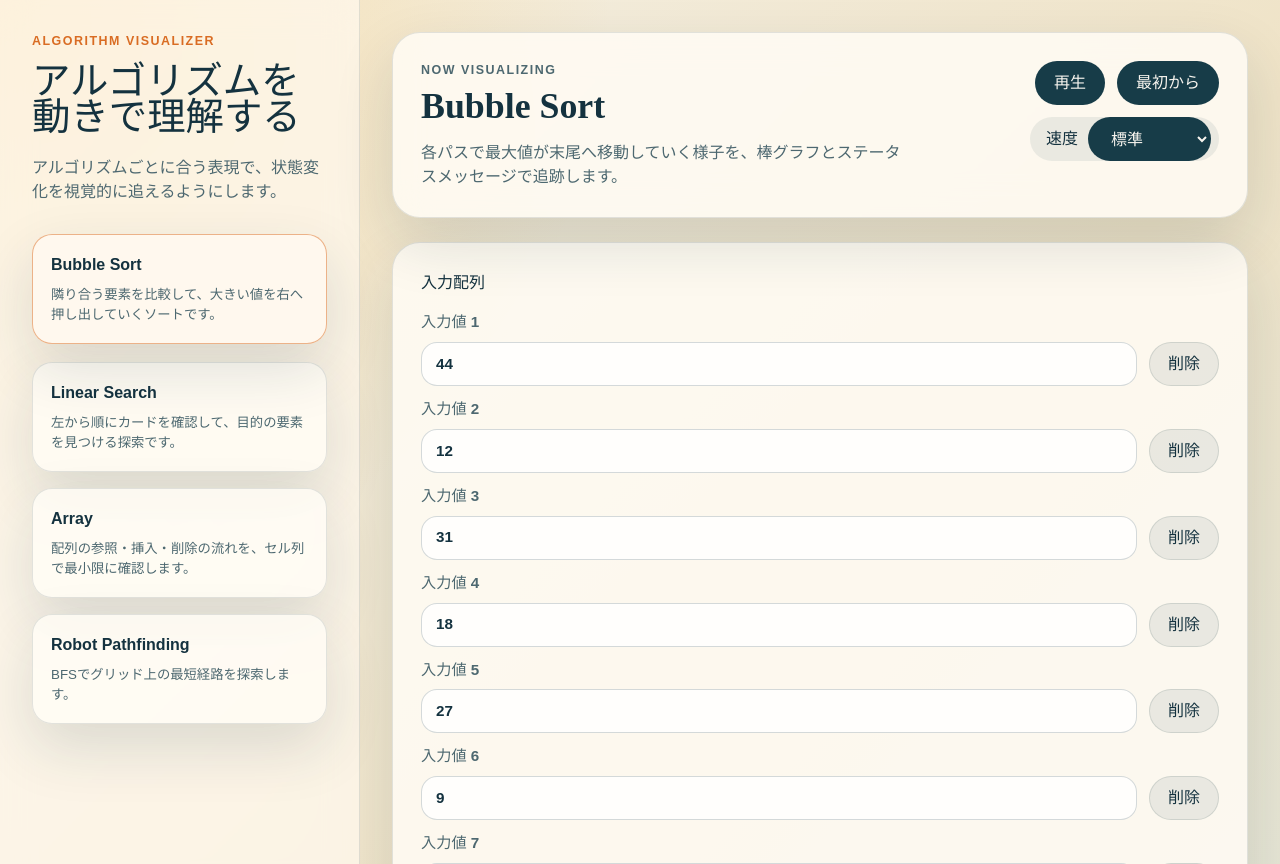
Robot Pathfinding UI › Play advances phase or message
What coordinates should you click on to do the following:
click the button "Robot Pathfinding BFSでグリッド上の最短経路を探索します。"
I would click on:
 (180, 669)
Its box is [32,614,327,724].
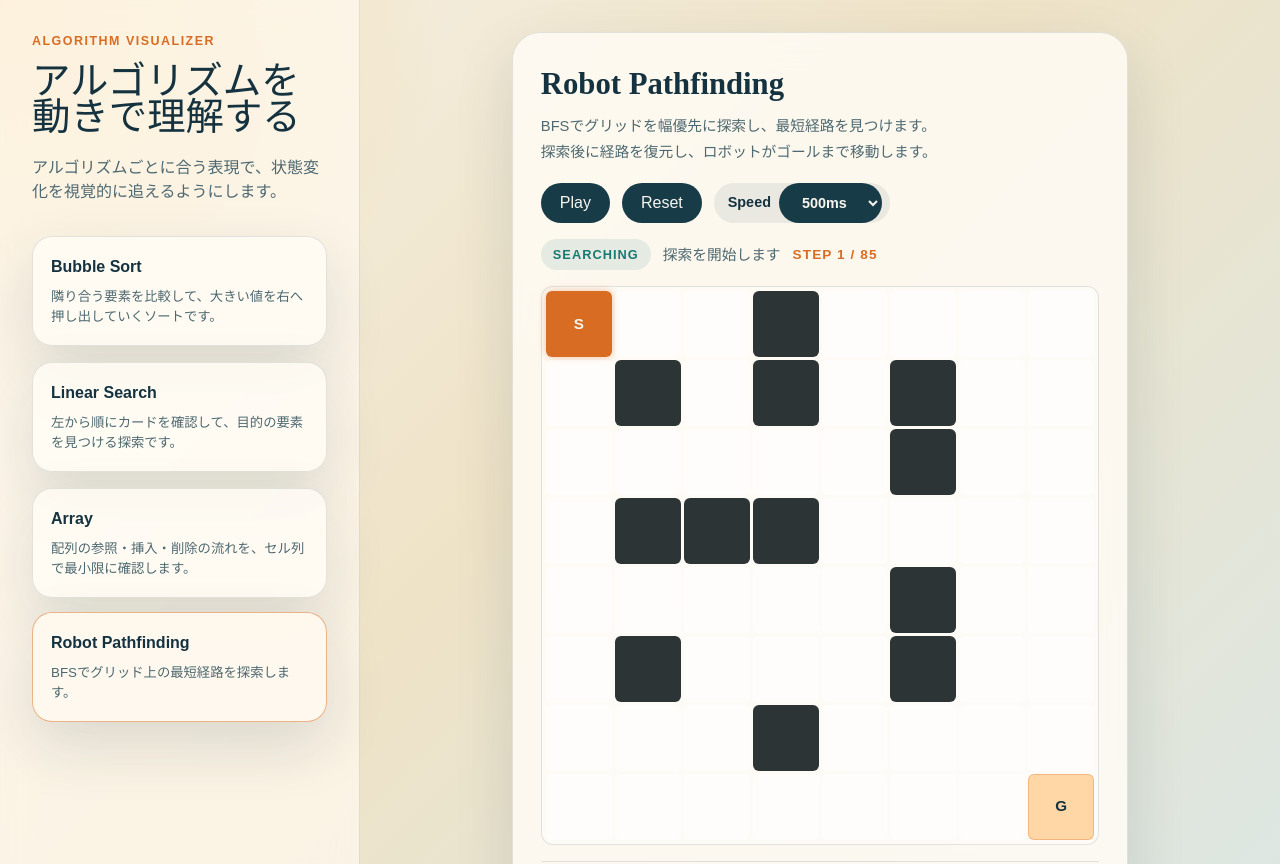
What coordinates should you click on to do the following:
click the button with test id "robot-pathfinding-play-pause"
I would click on:
 (575, 203)
Its box is [541,183,610,223].
Wait 600 ms
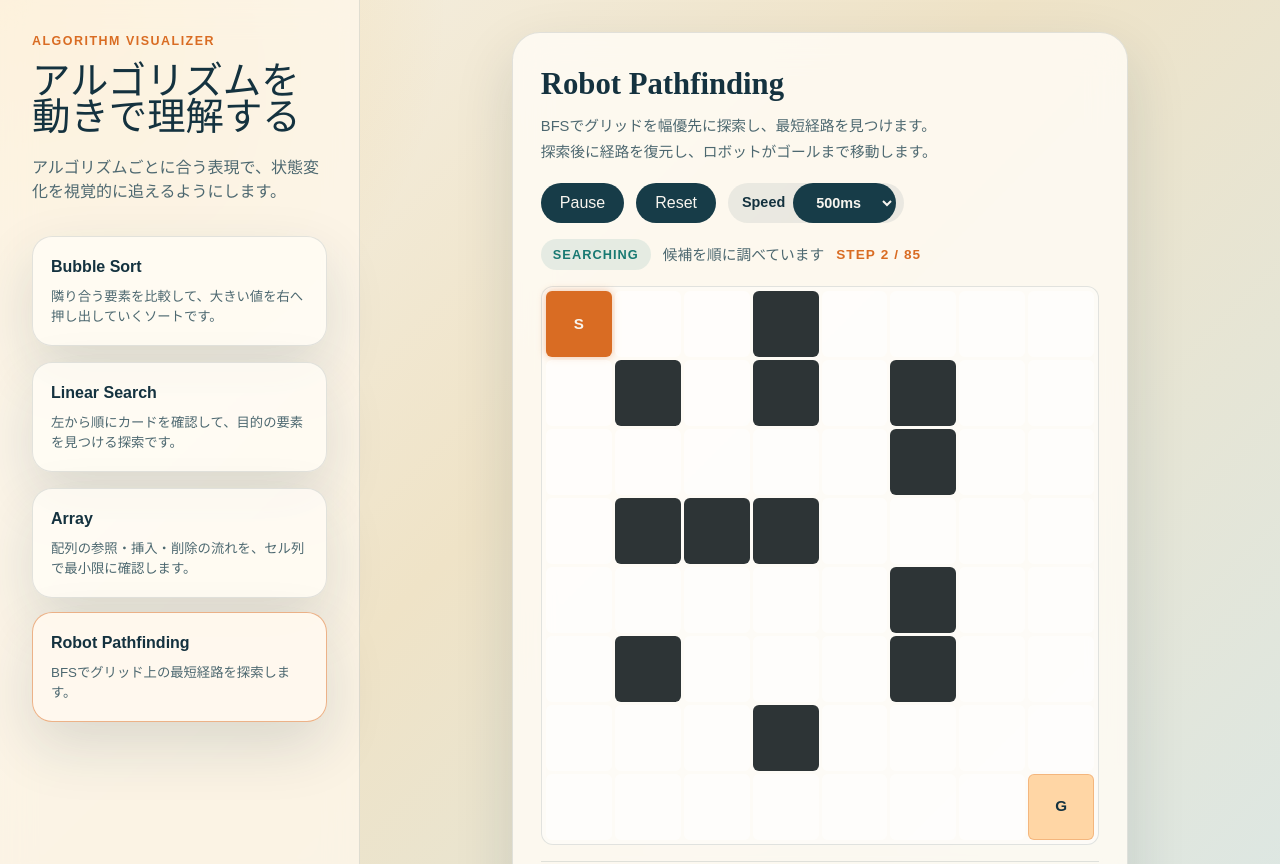
Check: the text with test id "robot-pathfinding-status" no longer shows "探索を開始します"
